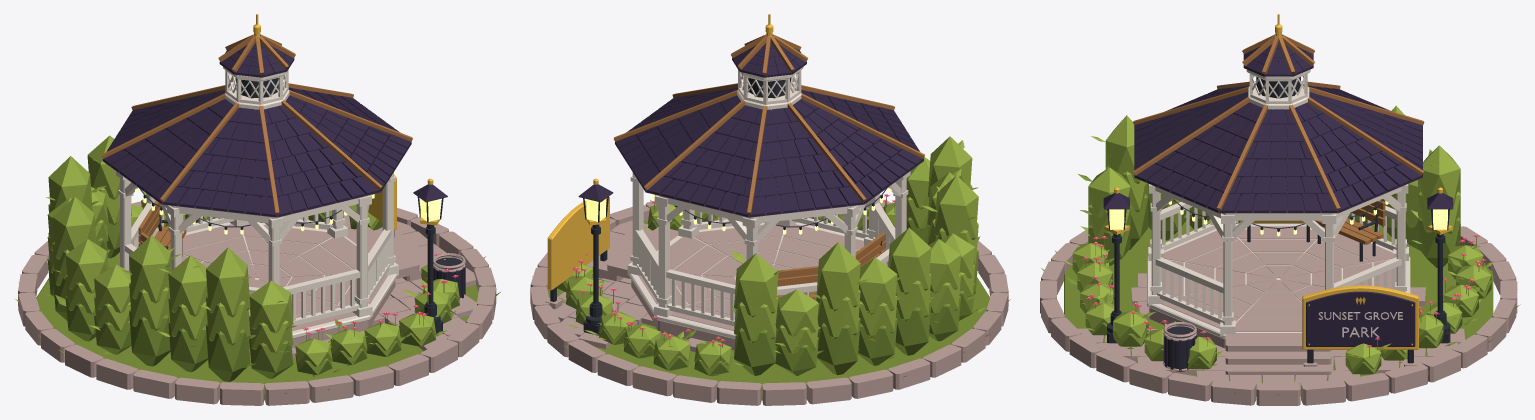
File: bld.gazebo.glb
The picture shows the model from 3 angles, left to right: view 1: azimuth 30°, elevation 25°; view 2: azimuth 150°, elevation 25°; view 3: azimuth 270°, elevation 25°; orthographic projection.
Visible parts, largest first — view 1: object 3, roof, interior; view 2: object 3, roof, interior; view 3: object 3, roof, interior.
Part boxes in pixels (x1,y1,x2,y2): object 3: (15, 79, 500, 405); roof: (101, 14, 412, 243); interior: (138, 200, 427, 349); object 3: (530, 136, 1010, 405); roof: (613, 14, 924, 243); interior: (586, 222, 887, 350); object 3: (1040, 105, 1520, 405); roof: (1133, 14, 1424, 239); interior: (1147, 200, 1410, 379).
Bounding box in the file's own units: 10.68 × 7.07 × 10.55.
